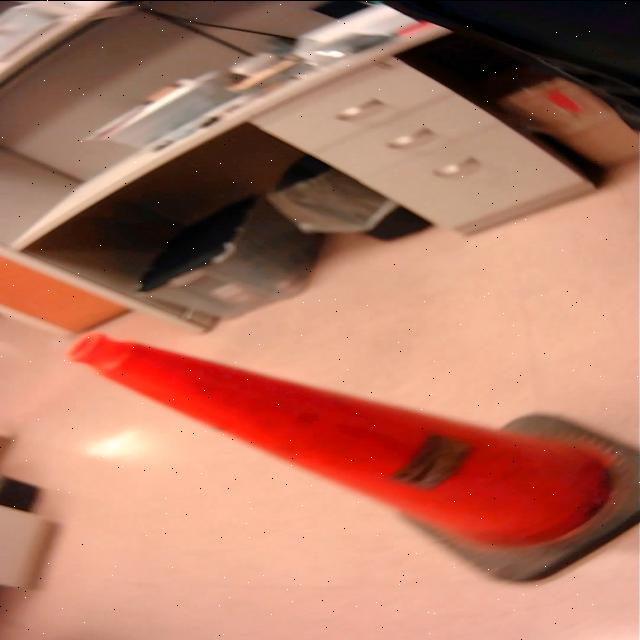traffic cone: (59, 331, 640, 589)
